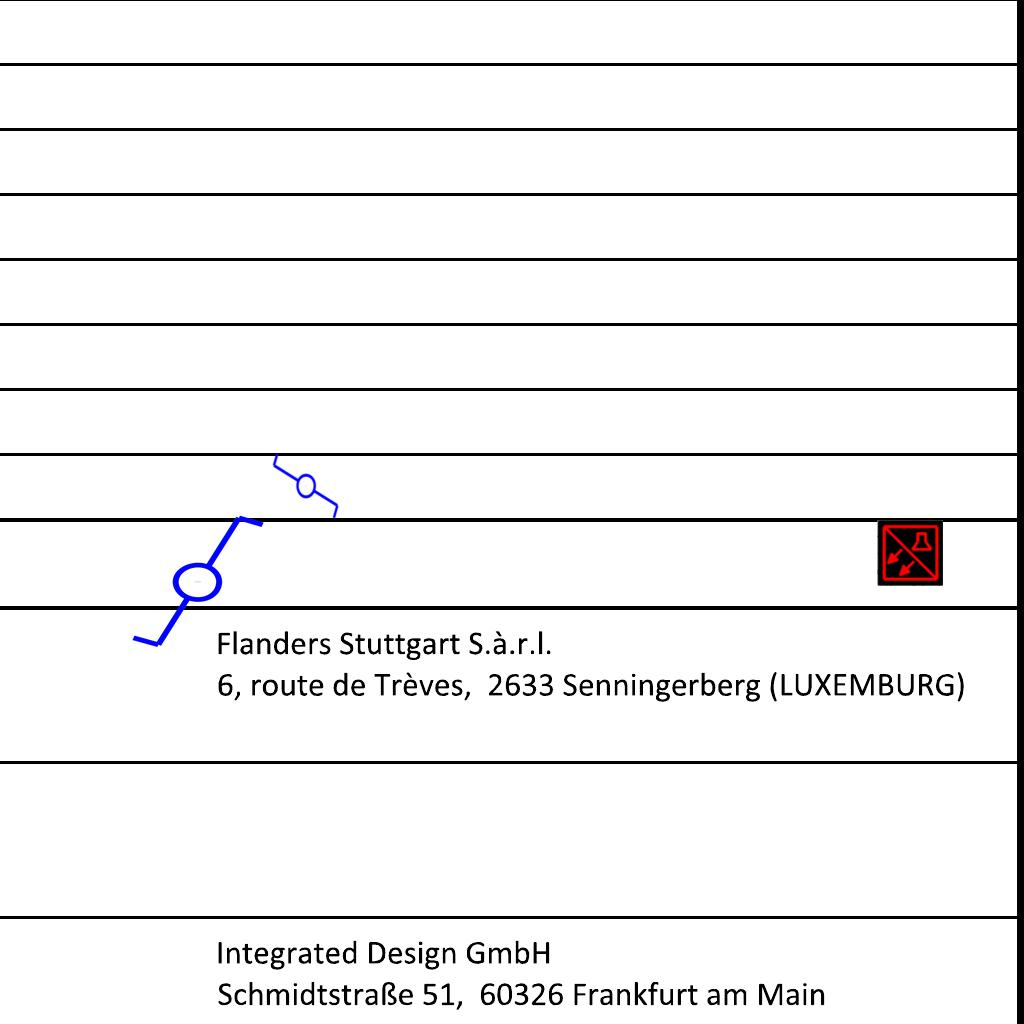OKW_Multisensormelder_(Kombination_optischer_Rauch-Kahlenmonoxid_Waerme-Melder): (877, 520, 943, 586)
Wechselschalter: (111, 508, 268, 652), (269, 451, 341, 529)
